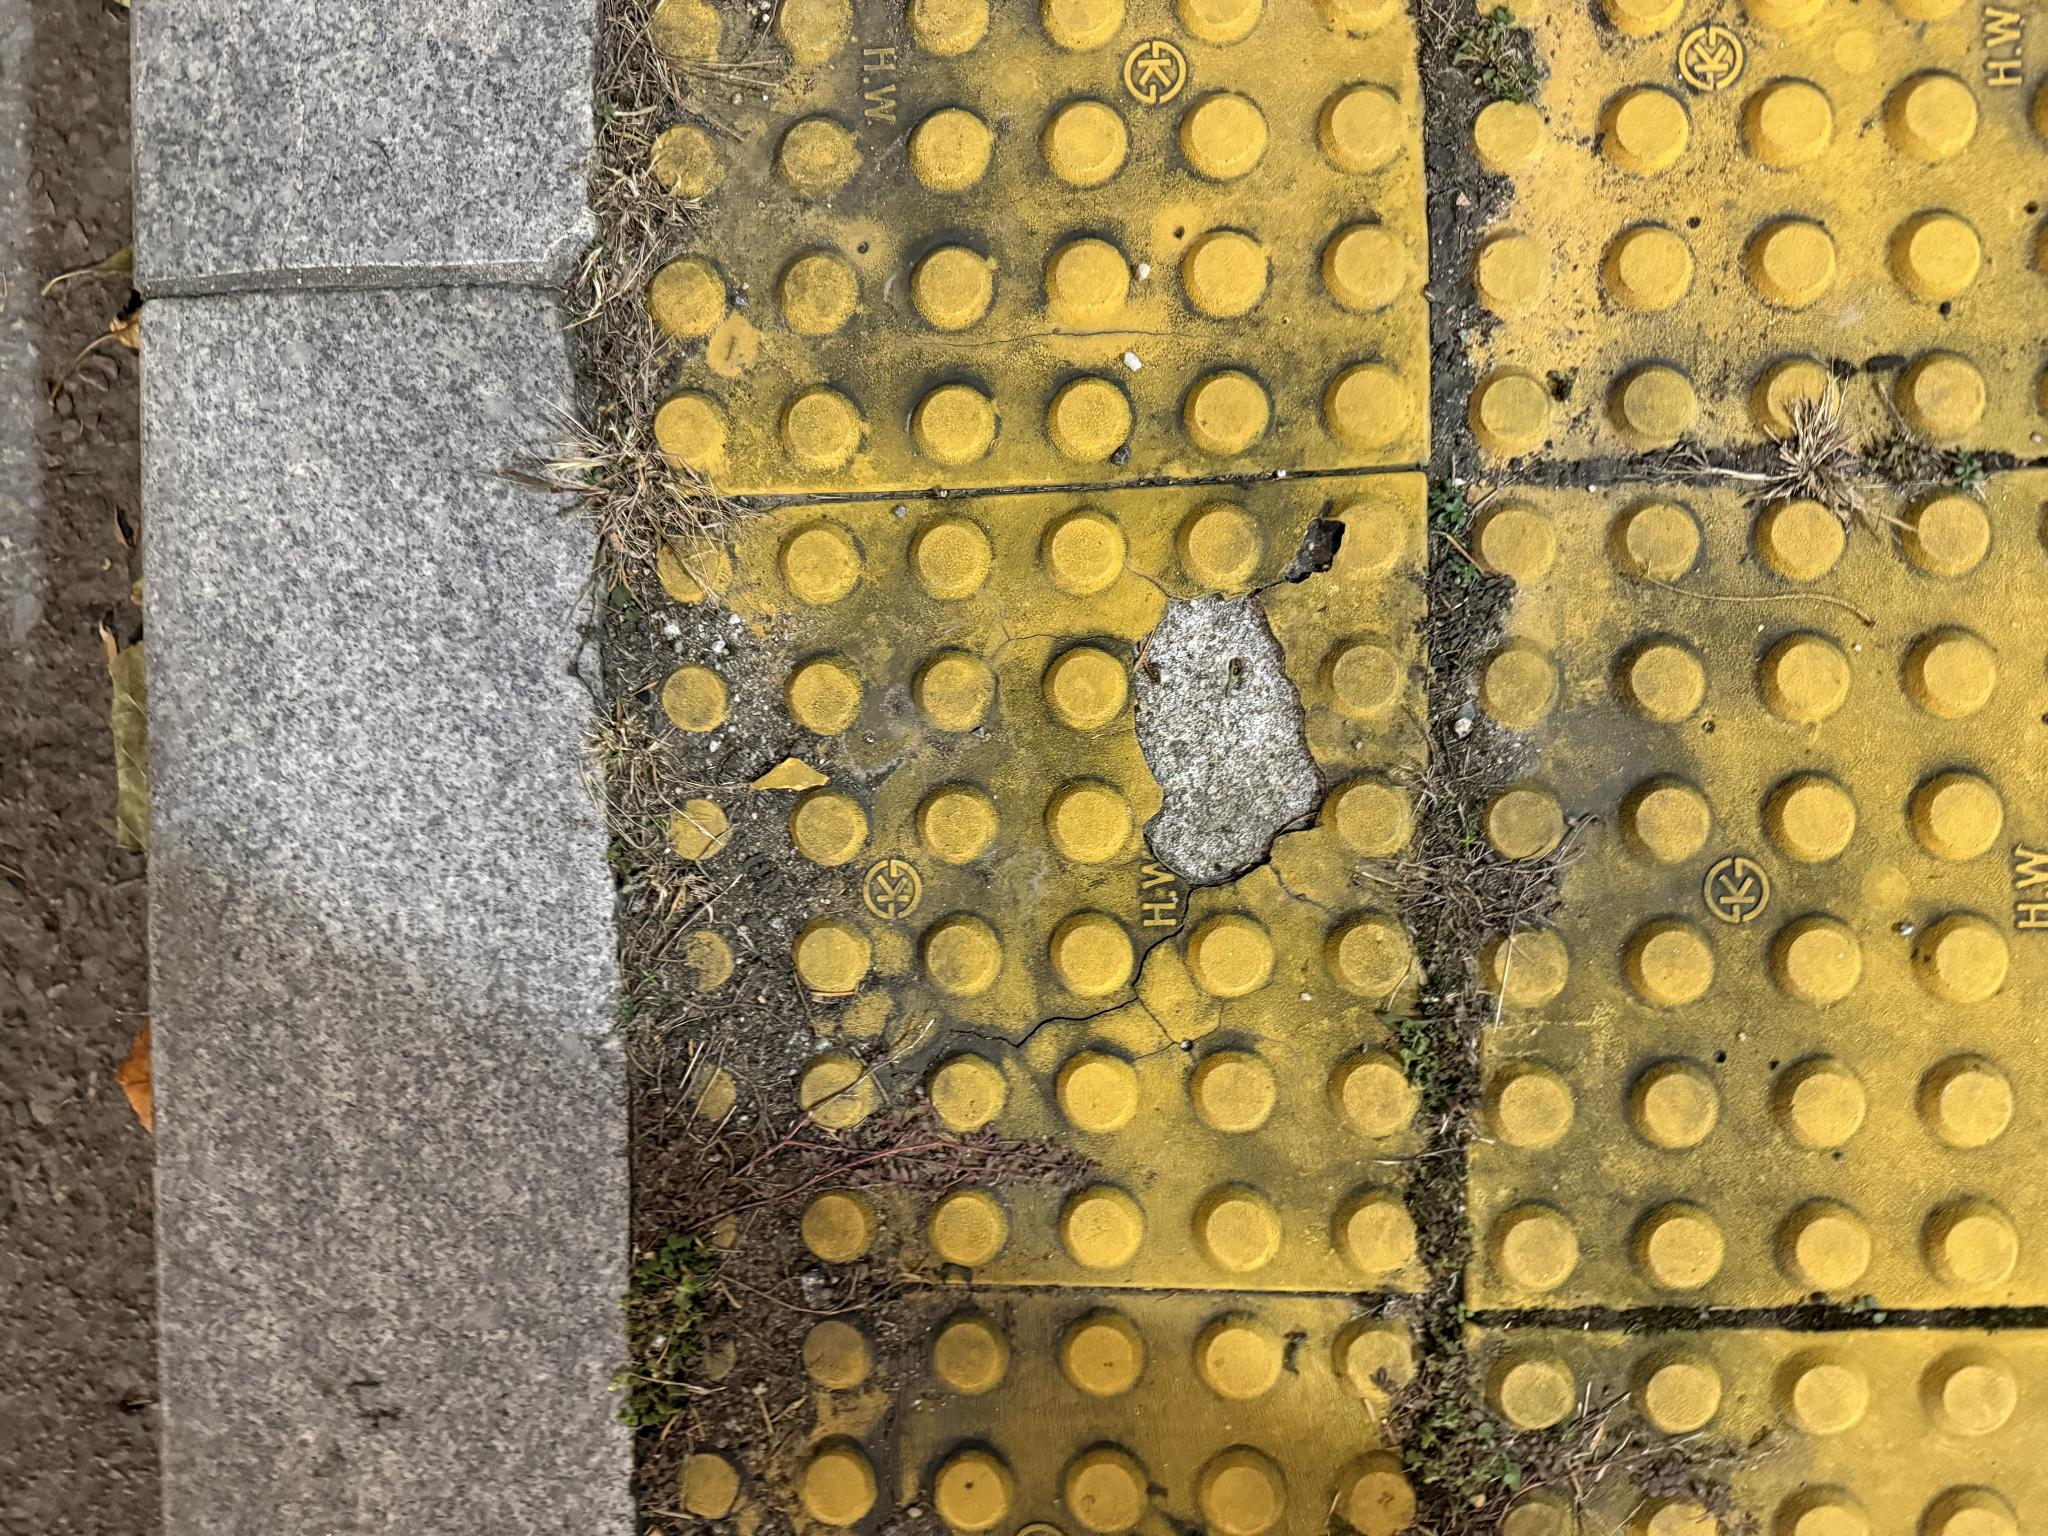Stop block broken: (258, 655, 1035, 1431)
